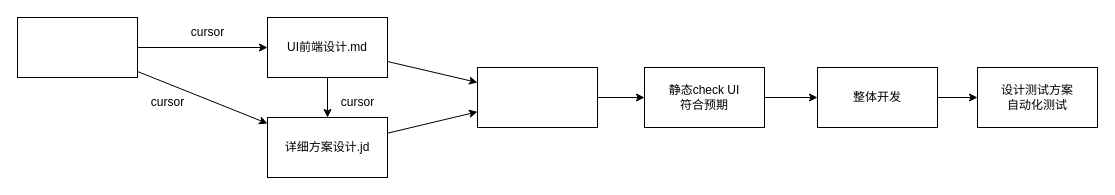
The diagram is 1115 pixels wide and 195 high, and some of its shapes have lost their labels. Each missing label, with the centre of its shape:
"生成代码" belongs at point (537, 97).
"需求.md" belongs at point (77, 47).
